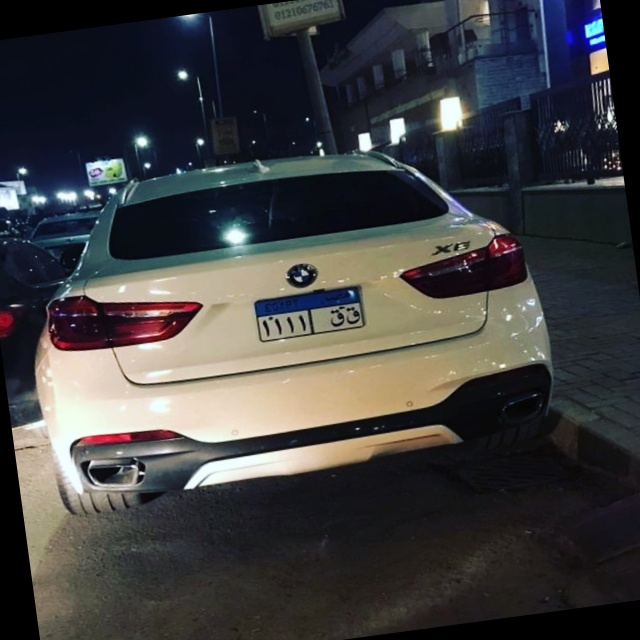License Plate: (252, 283, 367, 344)
